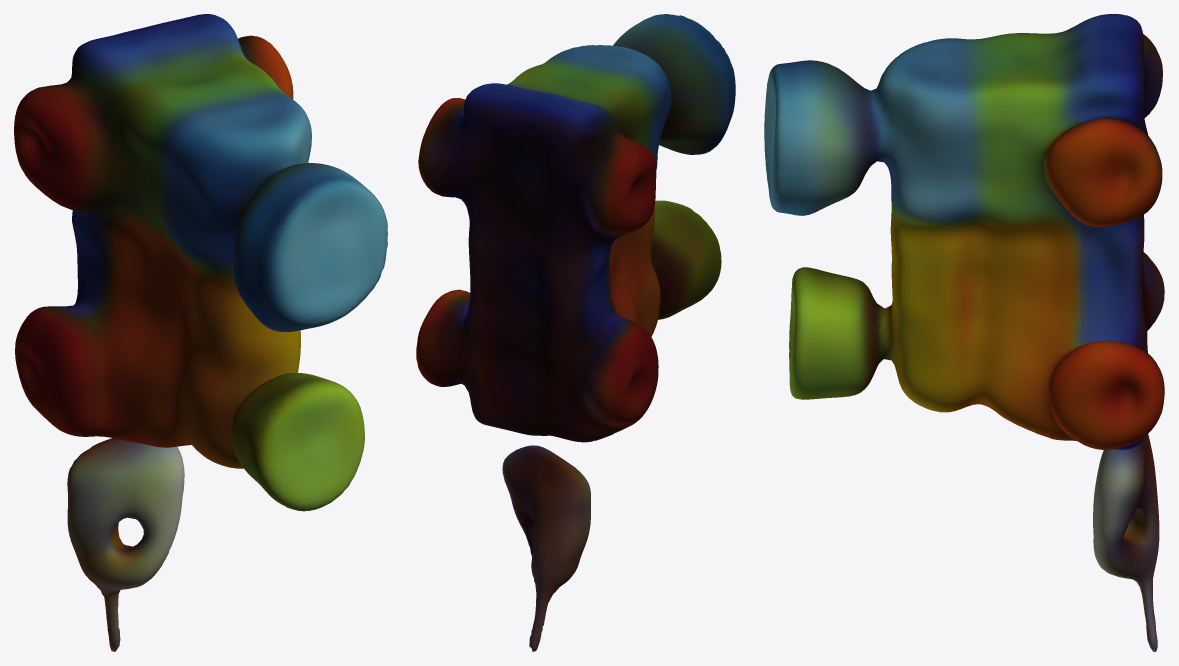
File: train.glb
3 views of the same model, side by side, from view 1: azimuth 30°, elevation 25°; view 2: azimuth 150°, elevation 25°; view 3: azimuth 270°, elevation 25° (orthographic). The views are drawn at different scales.
Bounding box in the file's own units: 0.4105 × 0.9981 × 0.5852.
